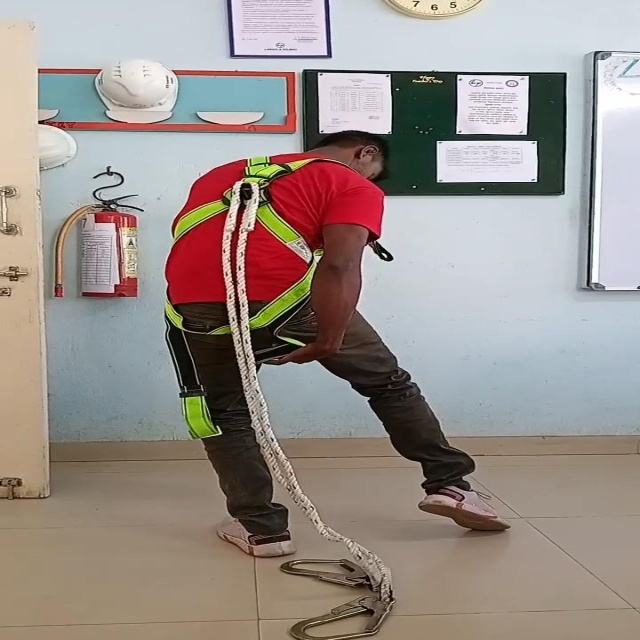Arnes_seguridad: (153, 146, 385, 431)
